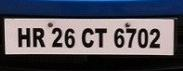0: (136, 27, 148, 47)
2: (50, 26, 64, 47), (147, 27, 161, 48)
6: (63, 27, 76, 48), (113, 27, 124, 48)
7: (124, 27, 136, 47)
C: (80, 26, 94, 48)
H: (15, 25, 31, 49)
R: (30, 26, 46, 48)
T: (93, 26, 107, 47)
